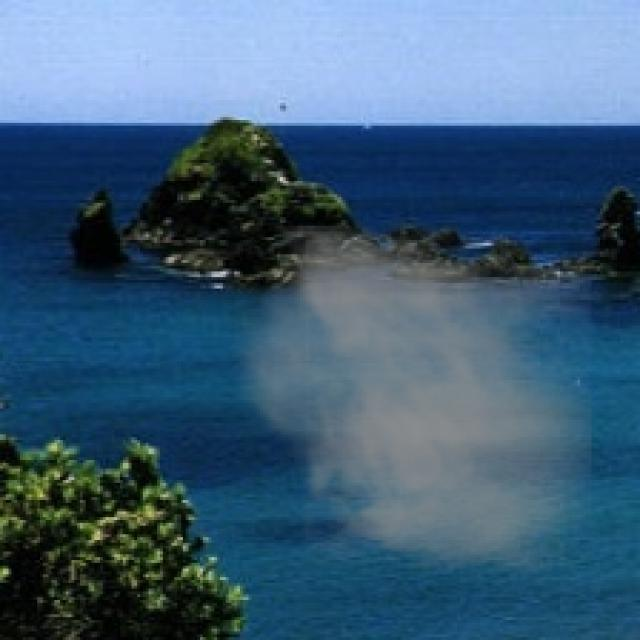smoke: (223, 226, 591, 574)
